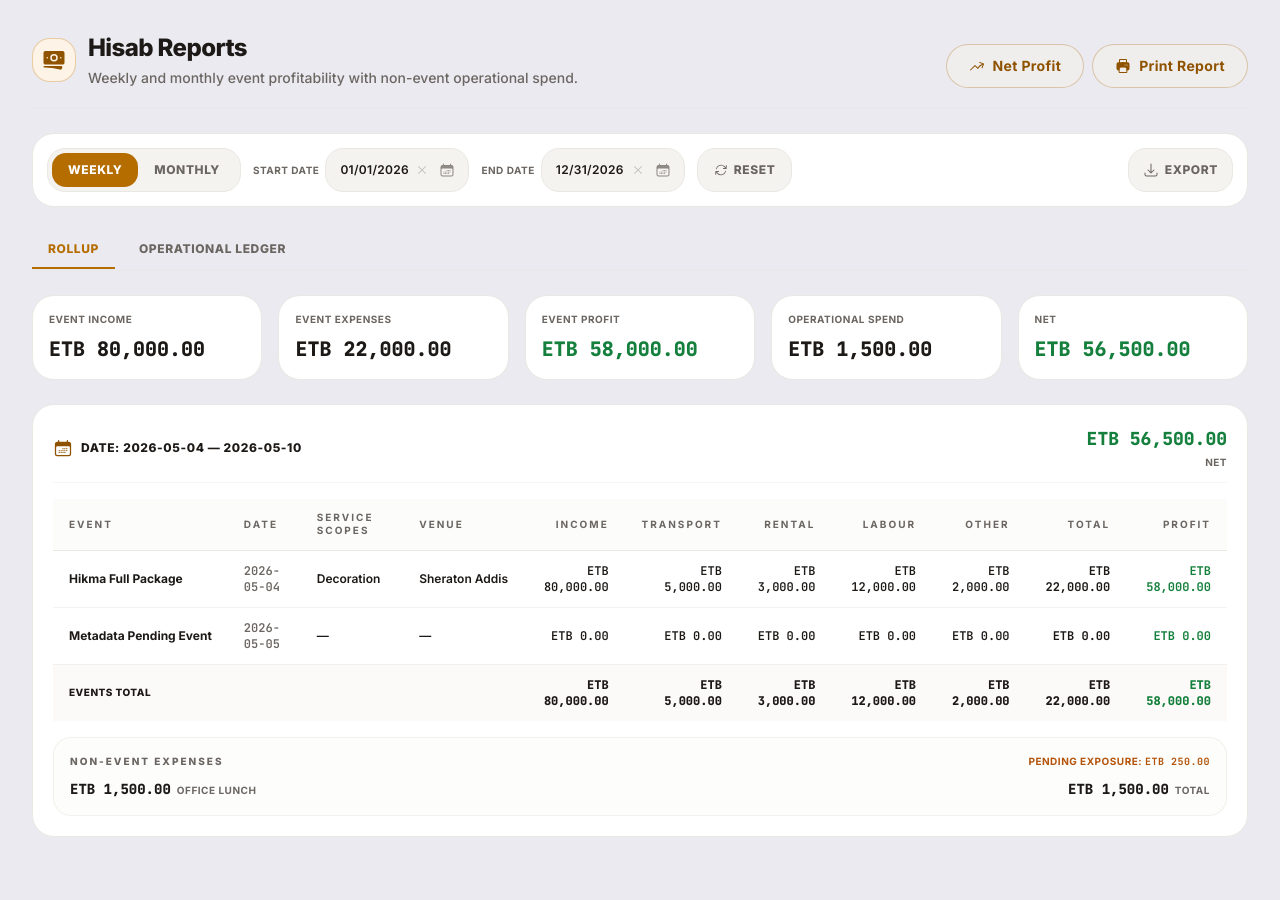
it: HisabReportPage › hides write and approve actions for read-only finance users
Click the button "Operational Ledger" at (212, 250), box [123, 231, 302, 269]
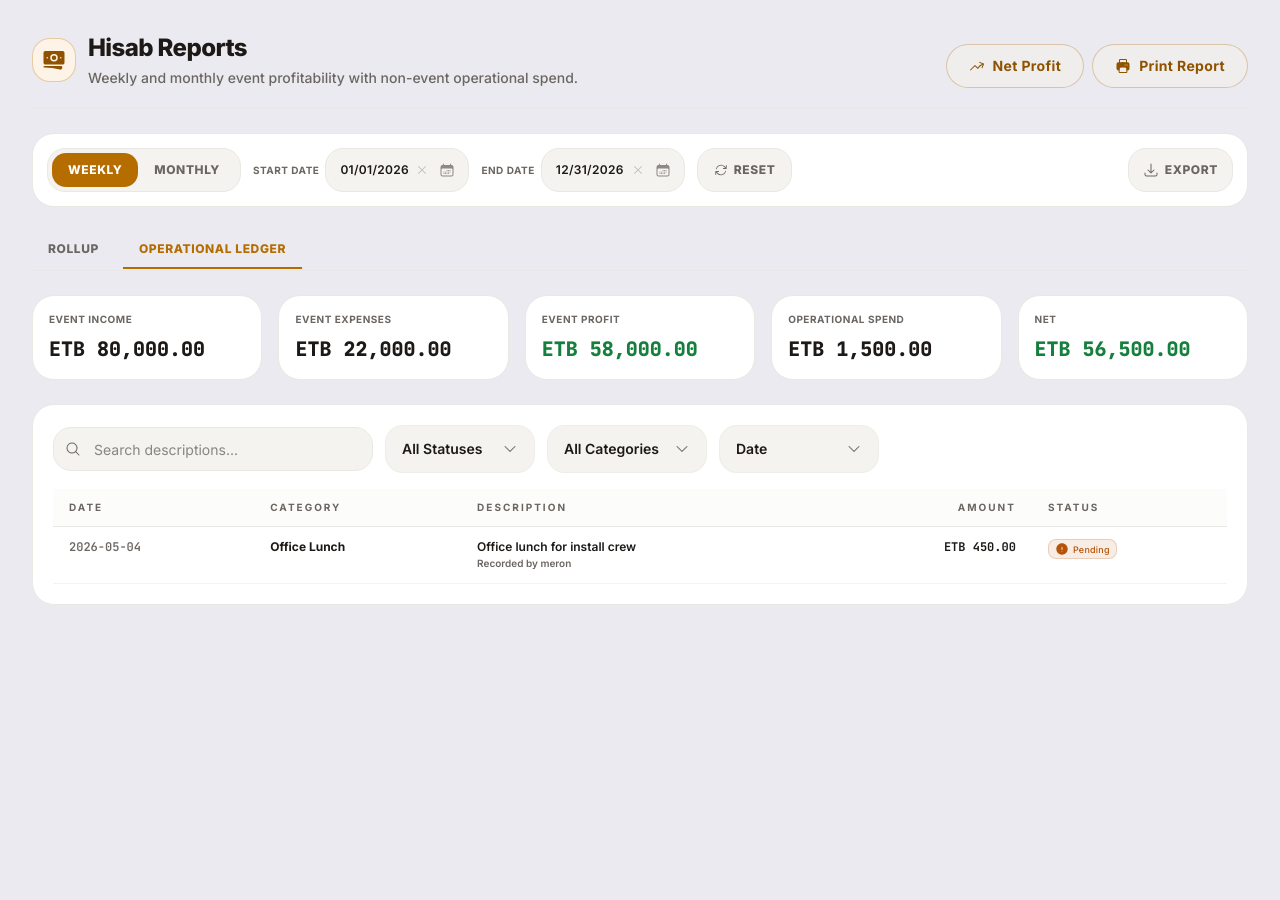
Expected: the text "Office lunch for install crew" is shown, [477, 539, 636, 554]
